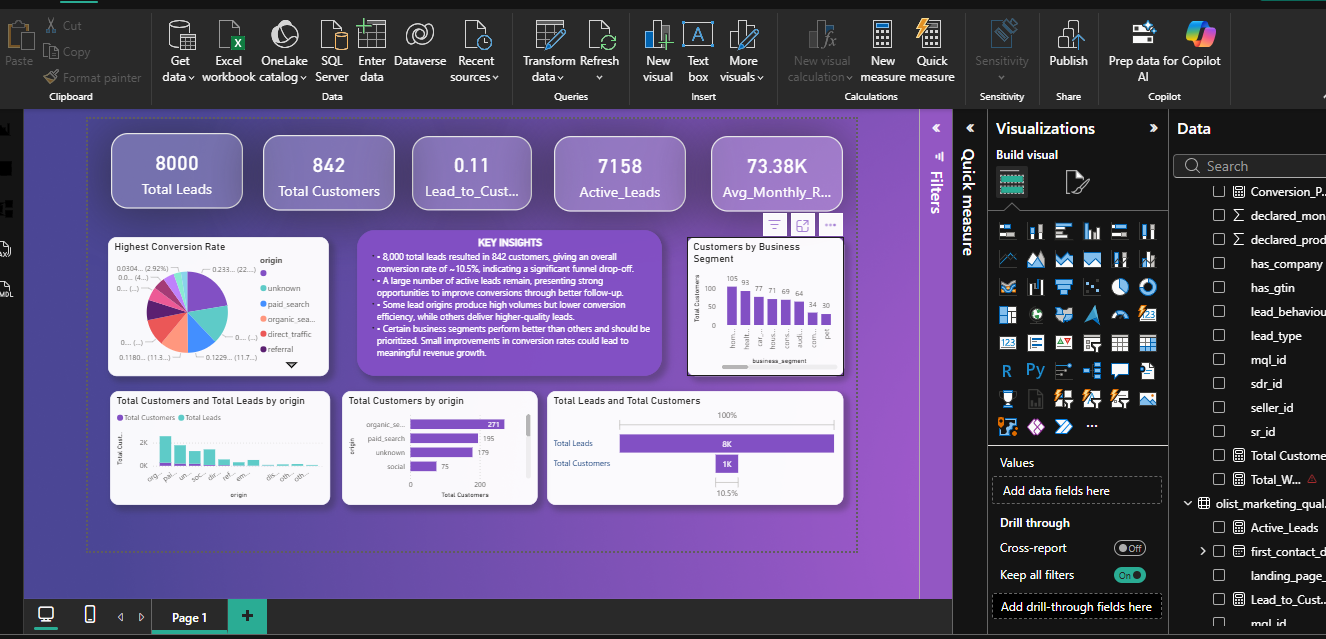

Layout of this report page (visuals, bound fields, positions):
{"tool":"powerbi","page":{"name":"Page 1","canvas":[1280,720],"ordinal":0},"visuals":[{"type":"card","fields":{"Values":["olist_marketing_qualified_leads_dataset.Total Leads"]},"box":[38,24,220,126],"z":0},{"type":"card","title":"Lead","fields":{"Values":["olist_marketing_qualified_leads_dataset.Lead_to_Customer_Percent"]},"box":[540,28,200,124],"z":1000},{"type":"card","fields":{"Values":["olist_closed_deals_dataset.Total Customers"]},"box":[292,26,220,126],"z":2000},{"type":"funnel","fields":{"Y":["olist_marketing_qualified_leads_dataset.Total Leads","olist_closed_deals_dataset.Total Customers"]},"box":[764.8,454.1,494.4,189.7],"z":3000},{"type":"clusteredBarChart","fields":{"Category":["olist_marketing_qualified_leads_dataset.origin"],"Y":["olist_closed_deals_dataset.Total Customers"]},"box":[422.7,454.1,325.6,189.7],"z":4000},{"type":"columnChart","fields":{"Category":["olist_marketing_qualified_leads_dataset.origin"],"Y":["olist_closed_deals_dataset.Total Customers","olist_marketing_qualified_leads_dataset.Total Leads"]},"box":[37.3,454.1,367.5,189.7],"z":5000},{"type":"pieChart","title":"Highest Conversion Rate","fields":{"Category":["olist_marketing_qualified_leads_dataset.origin"],"Y":["olist_closed_deals_dataset.Conversion_Percent_By_Channel"]},"box":[33.3,196.7,368.3,231.7],"z":6000},{"type":"card","fields":{"Values":["olist_marketing_qualified_leads_dataset.Active_Leads"]},"box":[776,28,220,126],"z":7000},{"type":"card","title":"active leads","fields":{"Values":["olist_closed_deals_dataset.Avg_Monthly_Revenue"]},"box":[1038,28,220,126],"z":8000},{"type":"clusteredColumnChart","title":"Customers by Business Segment","fields":{"Category":["olist_closed_deals_dataset.business_segment"],"Y":["olist_closed_deals_dataset.Total Customers"]},"box":[998.3,196.7,261.7,231.7],"z":9000},{"type":"textbox","title":"KEY INSIGHTS","box":[448.3,185,508.3,243.3],"z":10000}]}

Visuals, with their boxes on the page's 1280x720 design canvas (x1, y1, x2, y2). These are canvas units, not pixel positions in the 1326x639 screenshot, which may show the page scaled, cropped or inside an application window:
card - olist_marketing_qualified_leads_dataset.Total Leads: {"left": 38, "top": 24, "right": 258, "bottom": 150}
"Lead" card: {"left": 540, "top": 28, "right": 740, "bottom": 152}
card - olist_closed_deals_dataset.Total Customers: {"left": 292, "top": 26, "right": 512, "bottom": 152}
funnel - olist_marketing_qualified_leads_dataset.Total Leads x olist_closed_deals_dataset.Total Customers: {"left": 765, "top": 454, "right": 1259, "bottom": 644}
clusteredBarChart - olist_marketing_qualified_leads_dataset.origin x olist_closed_deals_dataset.Total Customers: {"left": 423, "top": 454, "right": 748, "bottom": 644}
columnChart - olist_marketing_qualified_leads_dataset.origin x olist_closed_deals_dataset.Total Customers: {"left": 37, "top": 454, "right": 405, "bottom": 644}
"Highest Conversion Rate" pieChart: {"left": 33, "top": 197, "right": 402, "bottom": 428}
card - olist_marketing_qualified_leads_dataset.Active_Leads: {"left": 776, "top": 28, "right": 996, "bottom": 154}
"active leads" card: {"left": 1038, "top": 28, "right": 1258, "bottom": 154}
"Customers by Business Segment" clusteredColumnChart: {"left": 998, "top": 197, "right": 1260, "bottom": 428}
"KEY INSIGHTS" textbox: {"left": 448, "top": 185, "right": 957, "bottom": 428}
